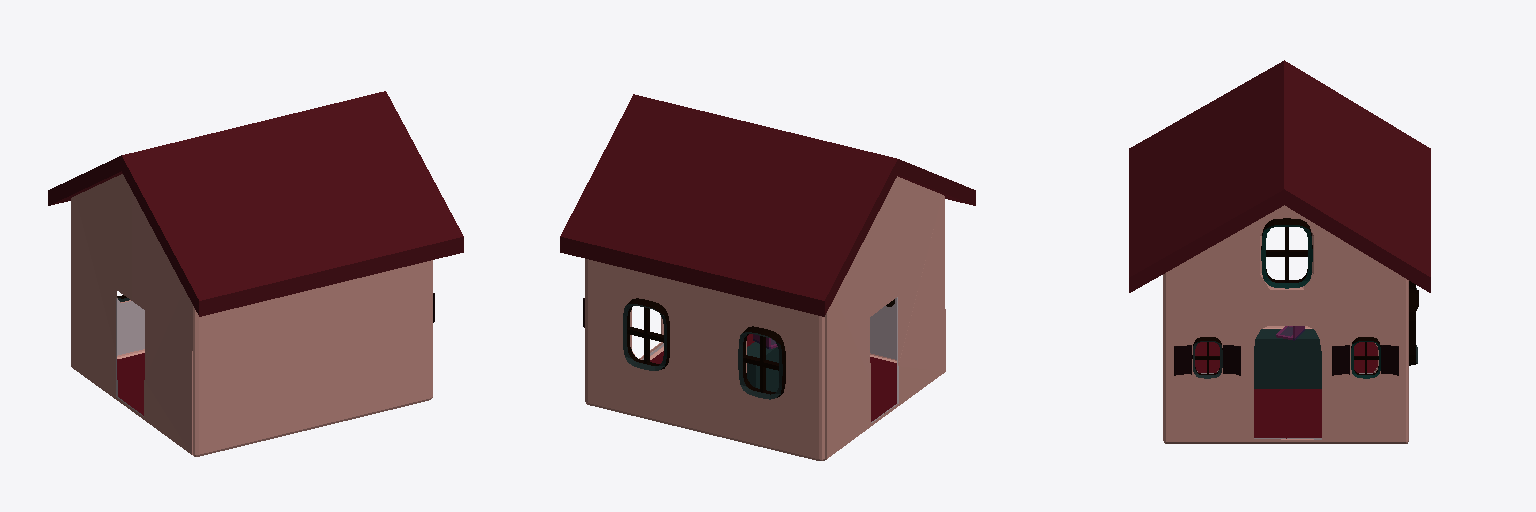
The model's file is House3.obj.
3 views of the same model, side by side, from view 1: azimuth 30°, elevation 25°; view 2: azimuth 150°, elevation 25°; view 3: azimuth 270°, elevation 25° (orthographic).
Parts seen in each view (by area): view 1: House4.001, Cube.012, floor.001, wall3.001; view 2: House4.001, Cube.012, window.008, window.007, floor.001, wall7.001, Cube.006; view 3: Cube.012, House4.001, floor.001, Cube.006, window.009, window.007, window.005, window.006.
Part boxes in pixels (left/top/right/bottom): House4.001: left=71, top=174, right=432, bottom=456; Cube.012: left=48, top=91, right=463, bottom=316; floor.001: left=117, top=353, right=144, bottom=415; wall3.001: left=117, top=301, right=144, bottom=355; House4.001: left=585, top=176, right=945, bottom=460; Cube.012: left=560, top=94, right=975, bottom=316; window.008: left=738, top=326, right=785, bottom=399; window.007: left=623, top=298, right=669, bottom=370; floor.001: left=650, top=334, right=896, bottom=421; wall7.001: left=870, top=298, right=896, bottom=359; Cube.006: left=747, top=342, right=778, bottom=391; Cube.012: left=1129, top=60, right=1430, bottom=292; House4.001: left=1163, top=205, right=1408, bottom=443; floor.001: left=1195, top=342, right=1377, bottom=438; Cube.006: left=1254, top=329, right=1321, bottom=388; window.009: left=1261, top=218, right=1312, bottom=288; window.007: left=1409, top=289, right=1418, bottom=365; window.005: left=1192, top=337, right=1222, bottom=378; window.006: left=1351, top=337, right=1380, bottom=378.
Size of the model in its own units: 1.2 by 1.14 by 1.19.